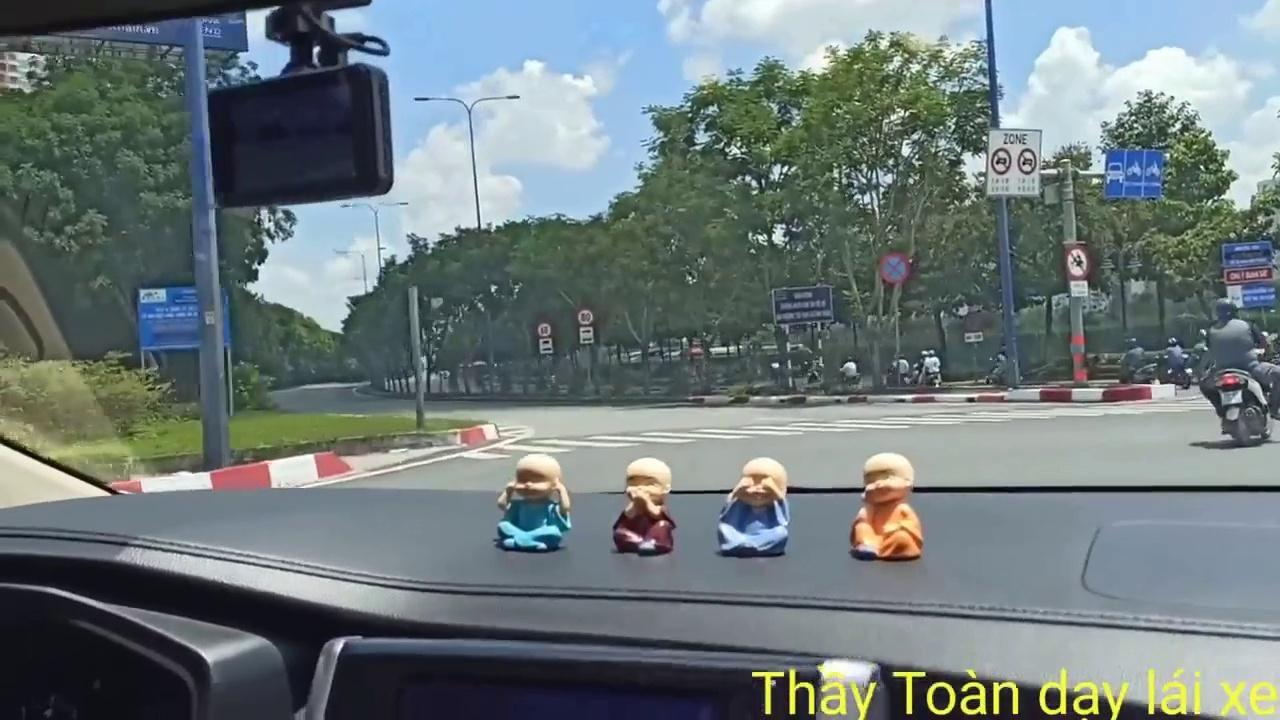Biển phụ: (578, 326, 596, 345), (538, 338, 555, 354)
Cấm cac phương tiện hoạt động trong khung giờ cố định: (984, 126, 1046, 198)
Cấm dừng - Cấm đỗ: (878, 252, 911, 286)
Cấm xe máy: (1062, 242, 1094, 279)
GIơi hạn tốc độ 60Km/h: (536, 320, 555, 339)
Giới hạn tốc độ 80Km/h: (576, 307, 595, 325)
Khác: (136, 282, 232, 350), (1220, 238, 1278, 310)
Làn đường cho từng xe: (1100, 147, 1164, 201)
